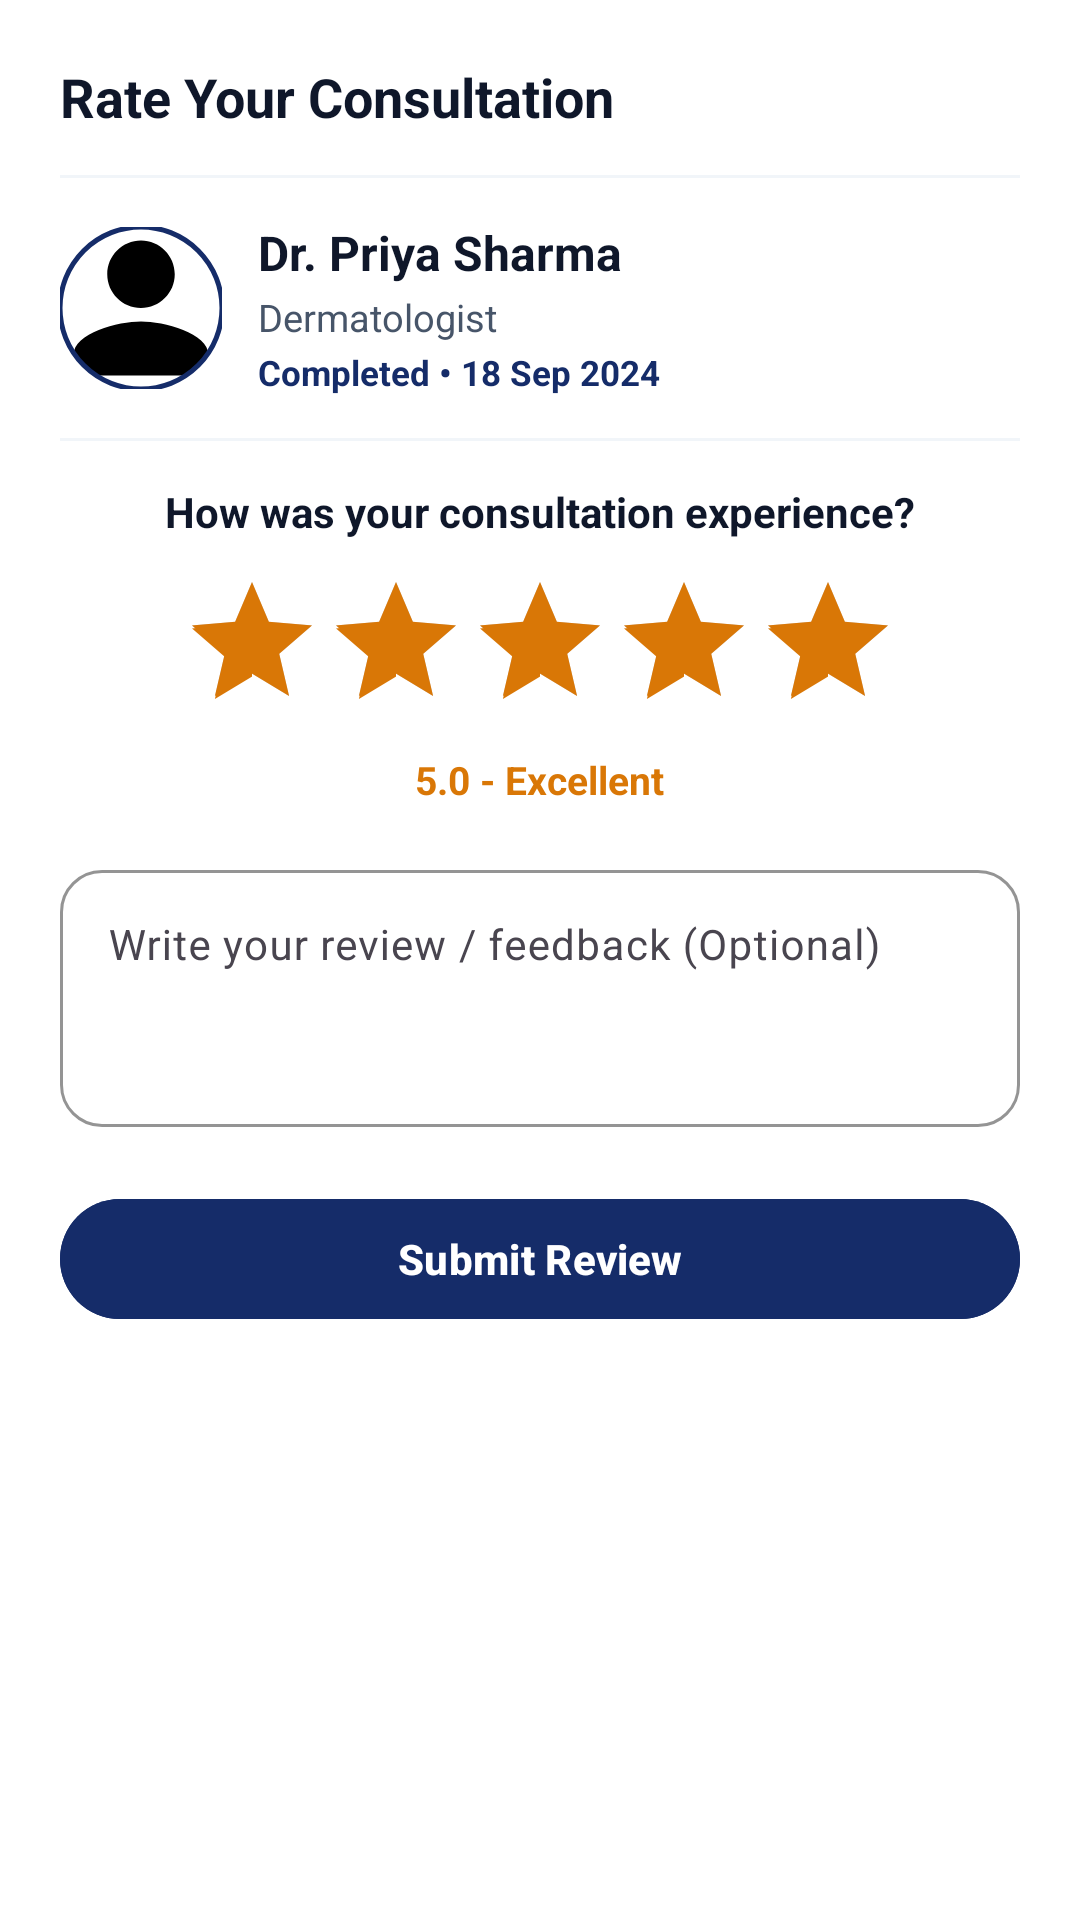

Screen size 1080px×1920px. Icon name, then its box in pixels as {"left": x1, "top": y1, "right": x2, "bottom": y2}:
Doctor Image: {"left": 60, "top": 227, "right": 222, "bottom": 389}
